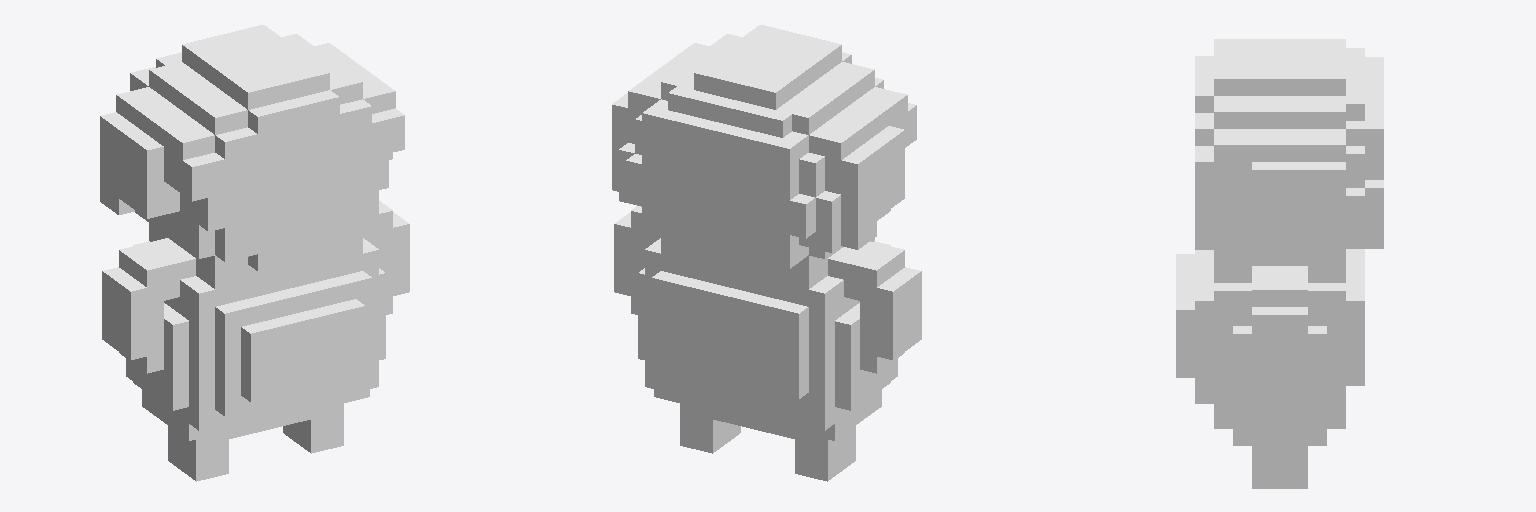
The model's file is fat_npc_still.obj.
3 renders of one model, left to right at view 1: azimuth 30°, elevation 25°; view 2: azimuth 150°, elevation 25°; view 3: azimuth 270°, elevation 25°, orthographic.
Visible parts, largest first — view 1: object 1; view 2: object 1; view 3: object 1.
Part boxes in pixels (left/top/right/bottom): object 1: left=100, top=25, right=409, bottom=481; object 1: left=612, top=25, right=921, bottom=481; object 1: left=1176, top=39, right=1383, bottom=488.
Bounding box in the file's own units: 1.7 × 2.3 × 1.1.